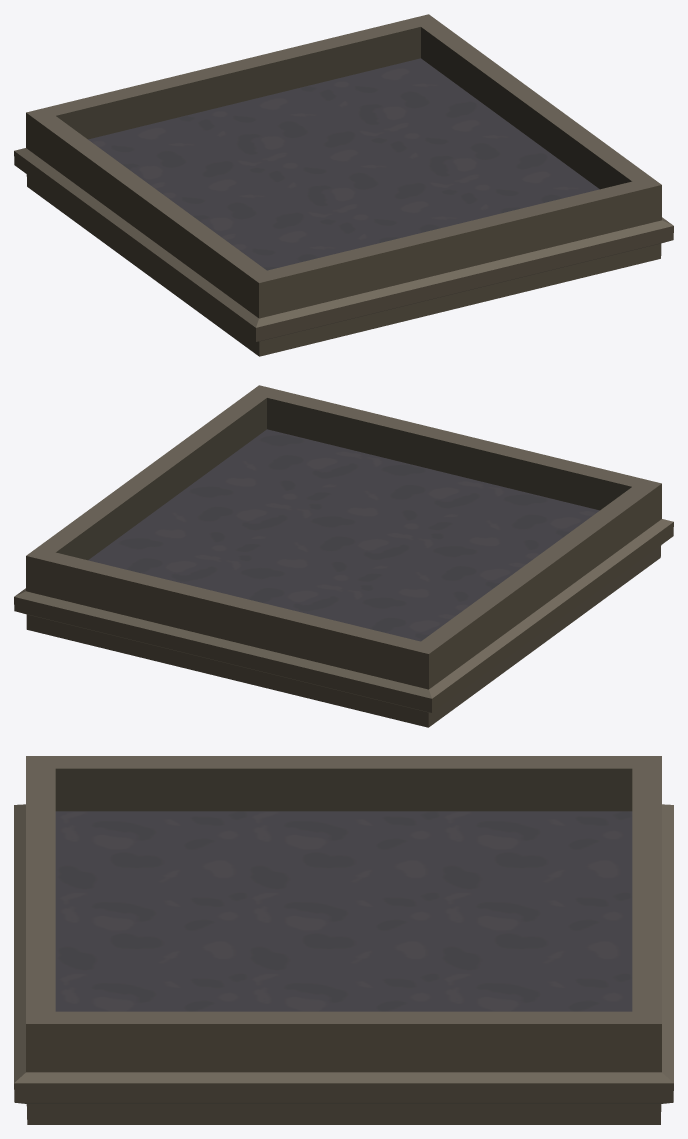
File: RoofTop_C04.fbx
3 renders of one model, top to bottom at view 1: azimuth 30°, elevation 25°; view 2: azimuth 150°, elevation 25°; view 3: azimuth 270°, elevation 25°, orthographic. The views are drawn at different scales.
Visible parts, largest first — view 1: RoofTop_C04; view 2: RoofTop_C04; view 3: RoofTop_C04.
Part boxes in pixels (x1,y1,x2,y2): RoofTop_C04: (14,14,673,356); RoofTop_C04: (14,385,673,727); RoofTop_C04: (14,756,673,1124).
Size of the model in its own units: 638 by 108 by 639.
